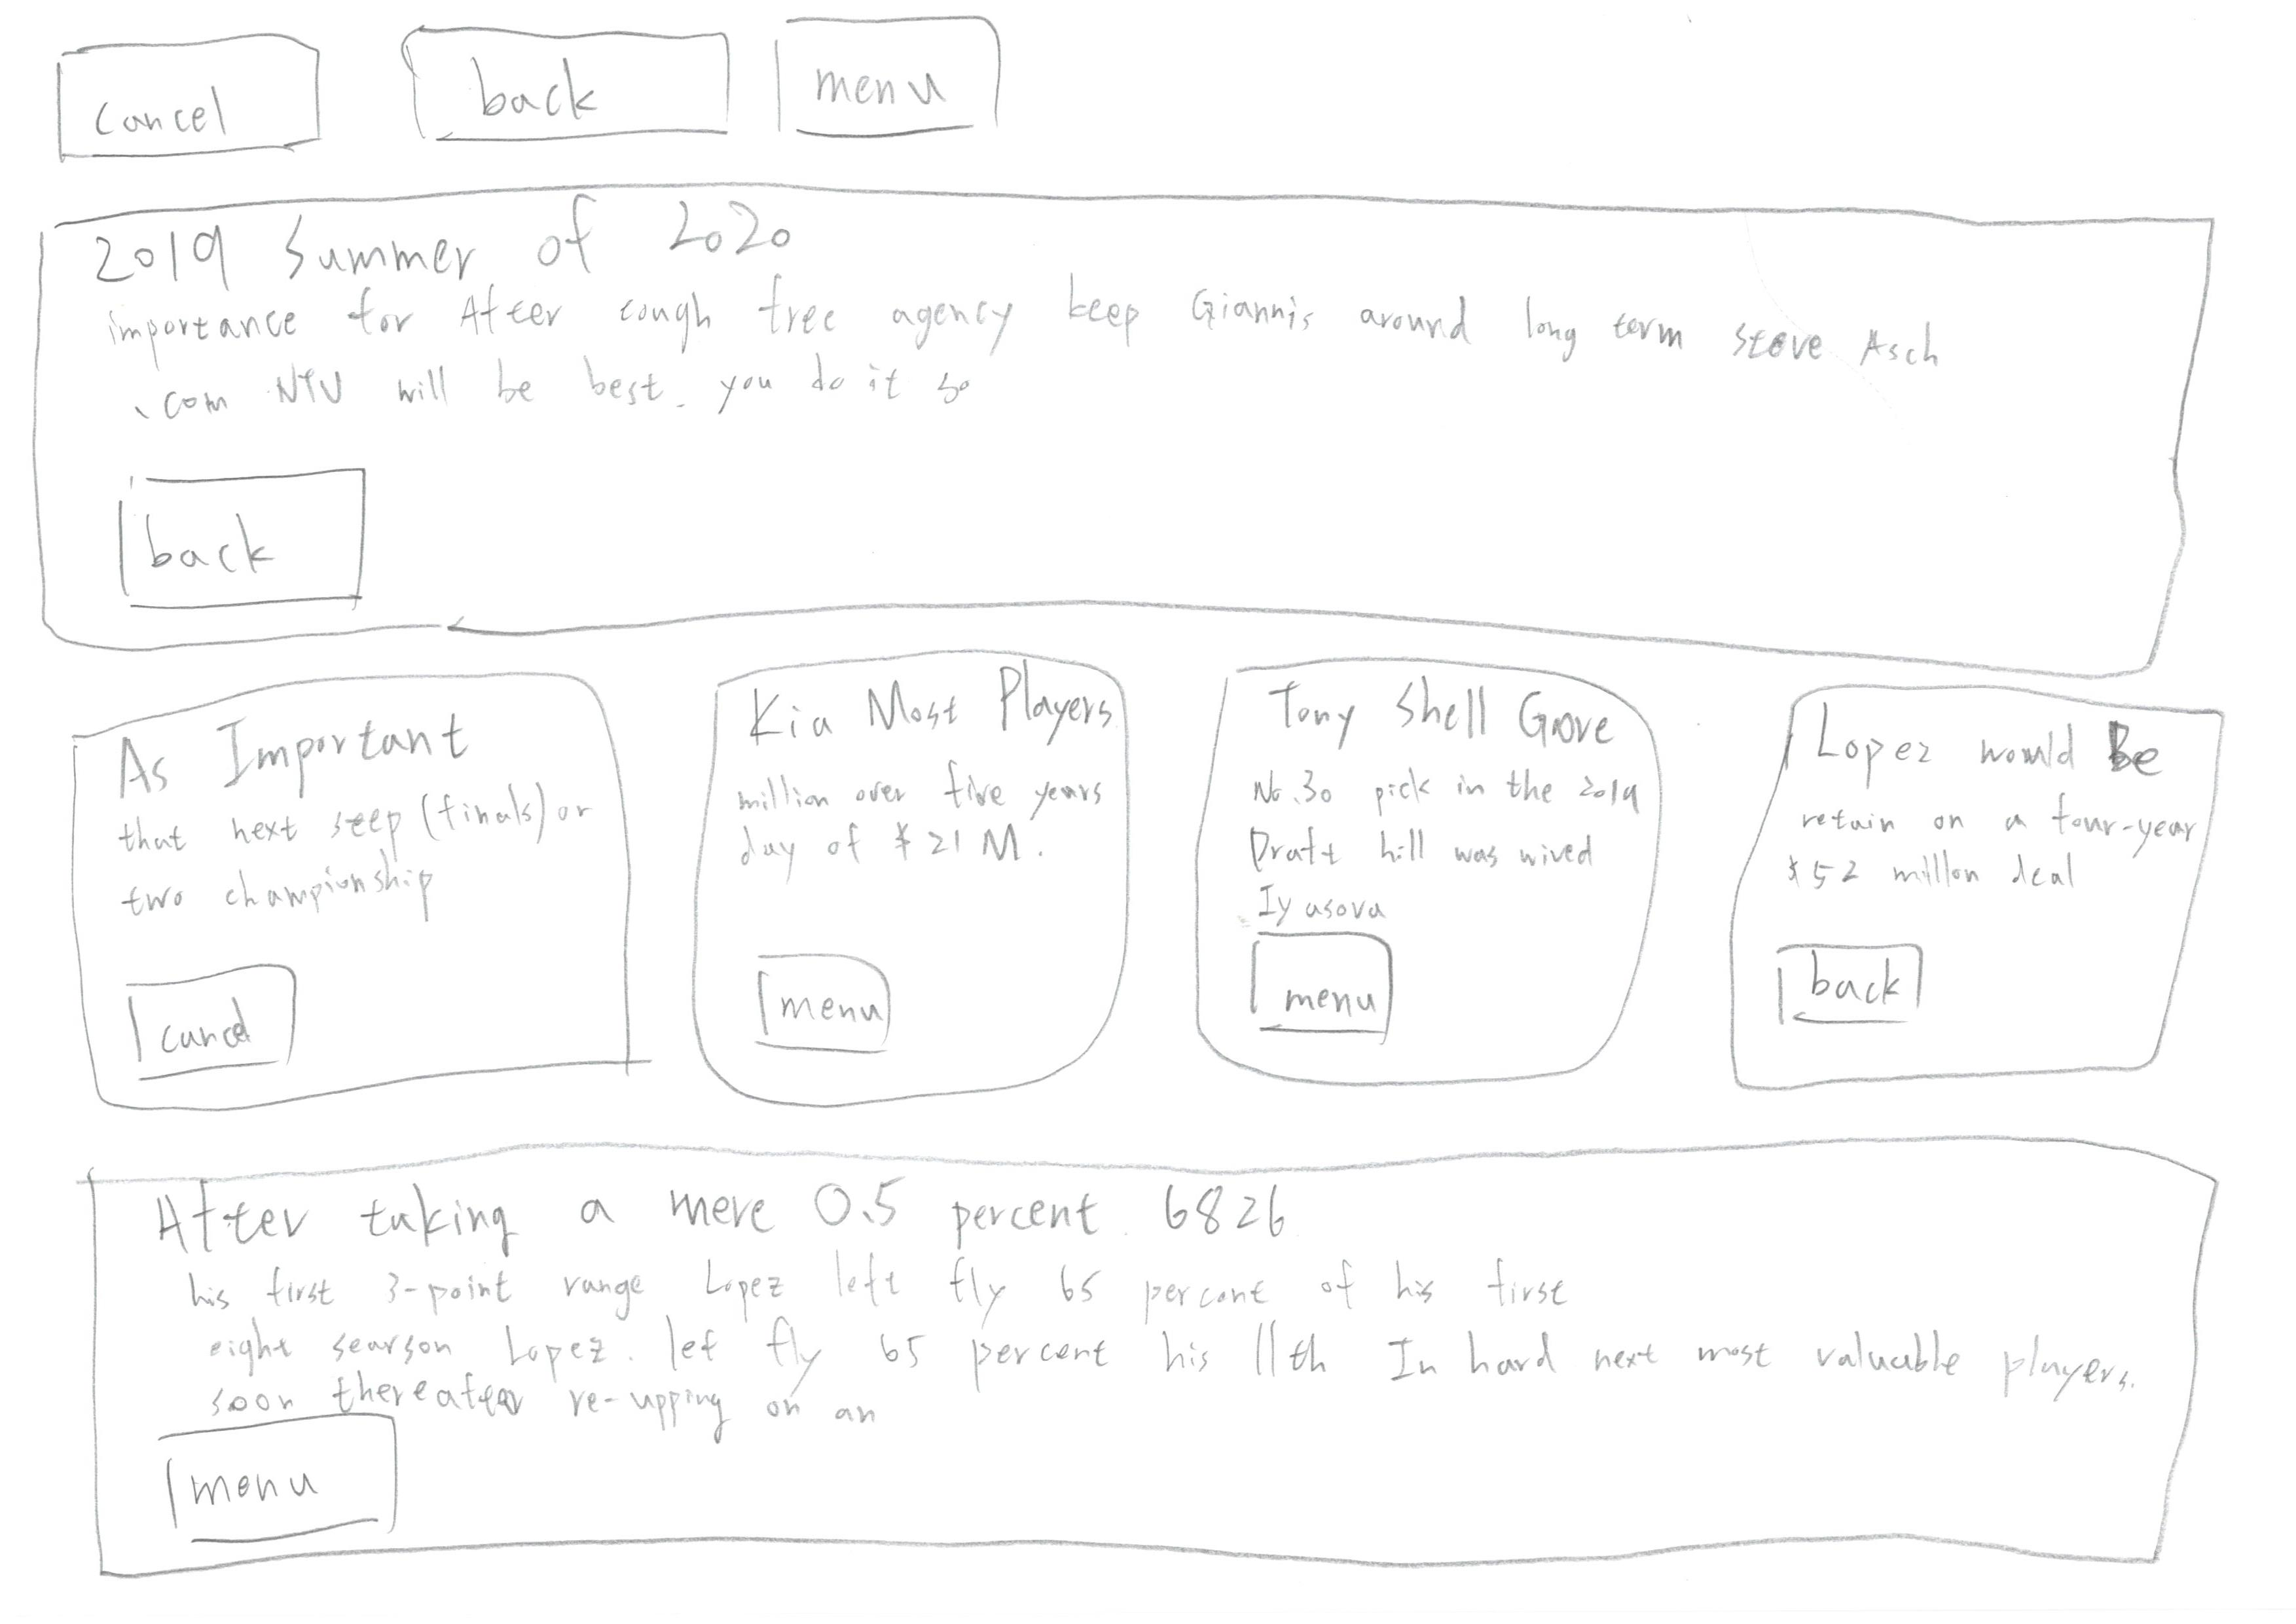back: (374, 2, 751, 158), (98, 448, 403, 631), (1760, 921, 1934, 1044)
cancel: (33, 25, 373, 179), (111, 956, 318, 1098)
menu: (148, 1399, 441, 1564), (770, 0, 1021, 170), (728, 937, 919, 1081), (1238, 912, 1419, 1062)
quadruple: (44, 647, 654, 1132), (1707, 629, 2247, 1116), (656, 631, 1167, 1137), (1185, 624, 1697, 1128)
row: (4, 172, 2296, 698), (4, 624, 2296, 1149), (4, 1098, 2296, 1624), (5, 7, 2296, 193)
single: (23, 156, 2296, 691), (54, 1118, 2257, 1573)
small-title: (144, 1165, 1303, 1260), (86, 216, 795, 278), (1241, 663, 1614, 752), (738, 670, 1102, 759), (1825, 705, 2180, 793), (111, 721, 513, 789)
text: (188, 1258, 2117, 1418), (100, 283, 1995, 425), (1250, 756, 1626, 912), (105, 794, 578, 916), (1781, 803, 2183, 919), (726, 759, 1099, 882)
